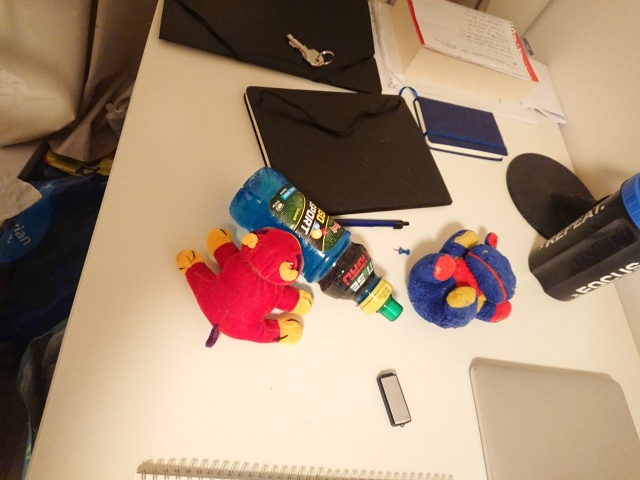Vindi Iso Sport Forest Strawberries 500mL: (227, 164, 403, 323)
